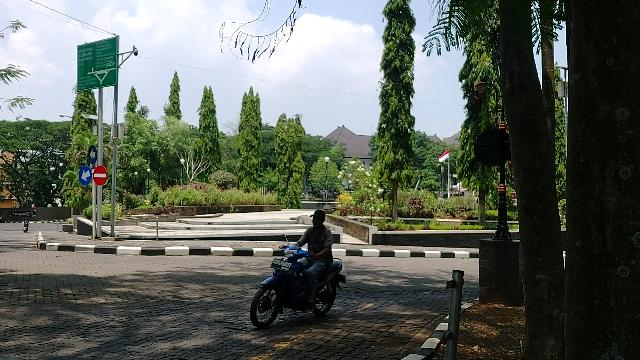motor: (251, 247, 347, 330)
non-helm: (312, 211, 327, 227)
